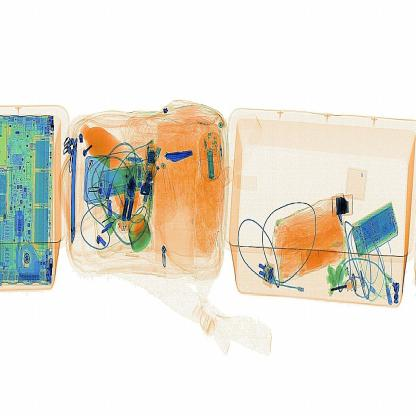knife: (161, 135, 201, 174)
